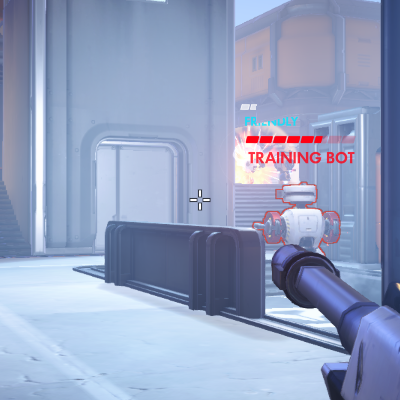hpbar: (245, 135, 356, 144)
